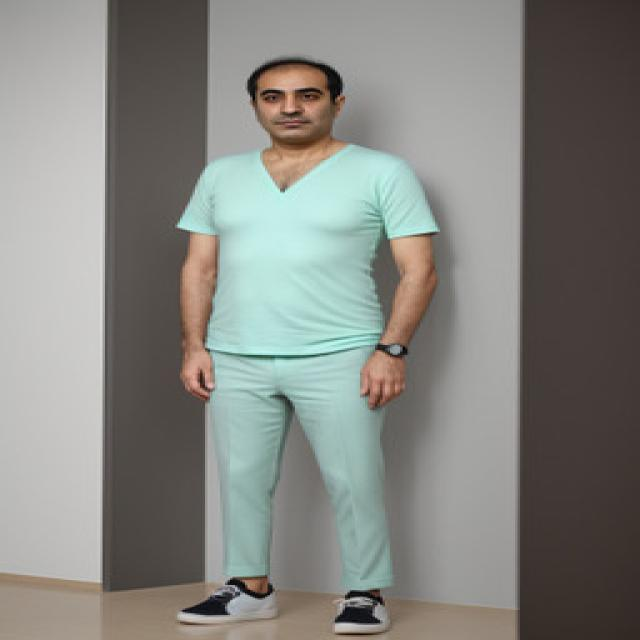Ai human 2: (153, 44, 465, 640)
